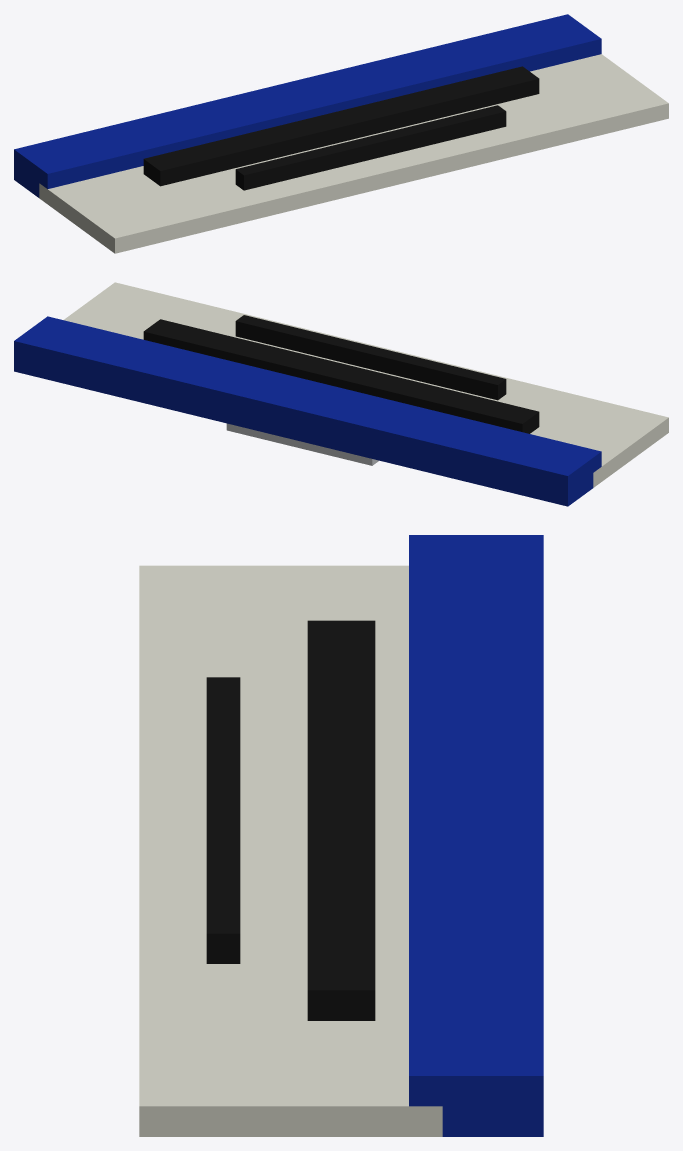
Rendered from badge_doctor.glb.
3 renders of one model, top to bottom at view 1: azimuth 30°, elevation 25°; view 2: azimuth 150°, elevation 25°; view 3: azimuth 270°, elevation 25°, orthographic. The views are drawn at different scales.
Visible parts, largest first — view 1: badge_doctor:compound; view 2: badge_doctor:compound; view 3: badge_doctor:compound.
Boxes of the visible parts, <box> form: badge_doctor:compound: <box>14,14,668,253</box>; badge_doctor:compound: <box>14,282,668,506</box>; badge_doctor:compound: <box>139,535,543,1136</box>.
Size of the model in its own units: 0.076 by 0.006 by 0.024.
